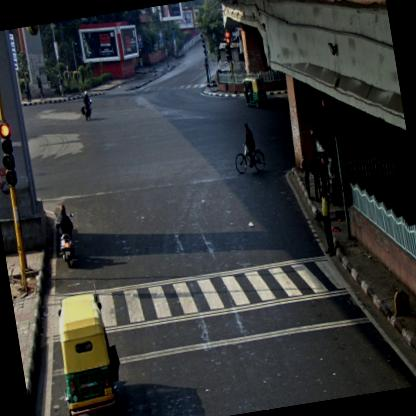motorcycle: (230, 122, 266, 176), (54, 202, 79, 268), (80, 91, 93, 120)
